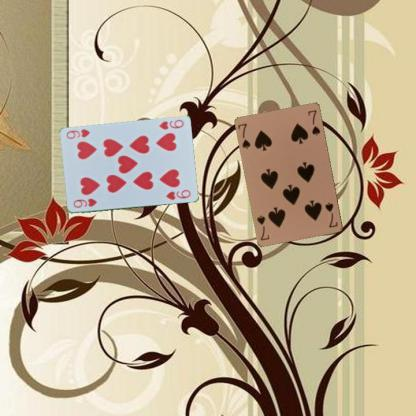7s: (323, 200, 339, 229), (236, 121, 252, 150)
9h: (156, 117, 185, 131), (71, 196, 98, 209)
